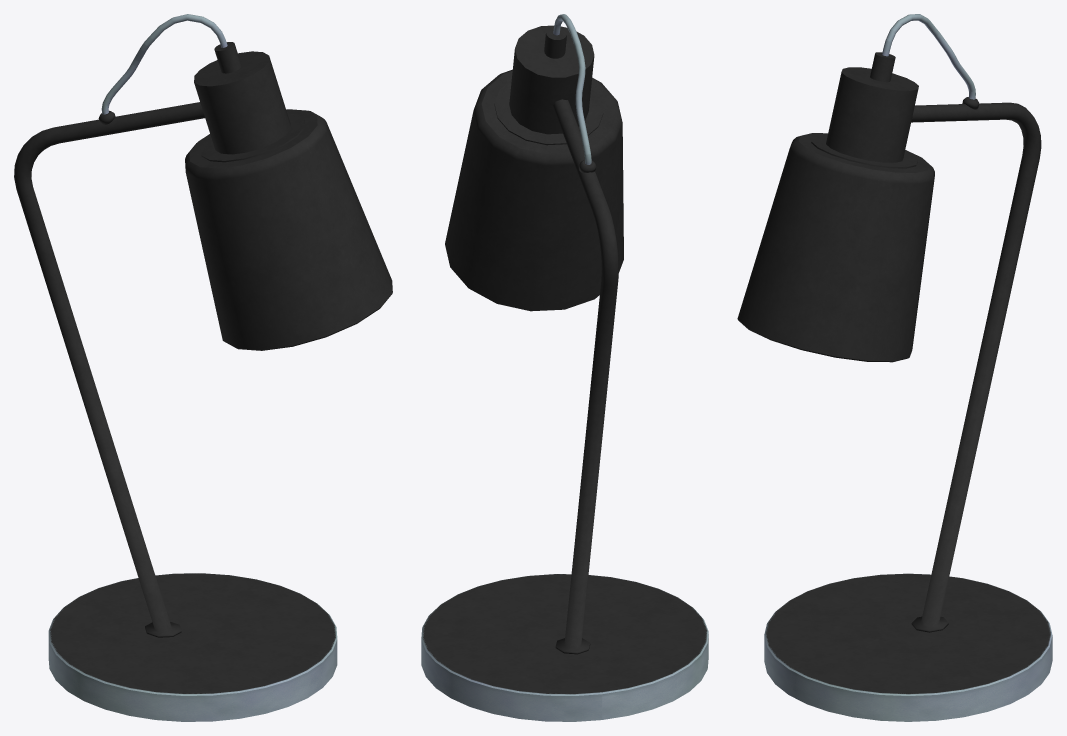
File: Lamp.fbx
3 views of the same model, side by side, from view 1: azimuth 30°, elevation 25°; view 2: azimuth 150°, elevation 25°; view 3: azimuth 270°, elevation 25° (orthographic).
Visible parts, largest first — view 1: lamp; view 2: lamp; view 3: lamp.
Part boxes in pixels (bbox=[...]): lamp: bbox=[14, 14, 392, 721]; lamp: bbox=[421, 14, 708, 721]; lamp: bbox=[737, 14, 1052, 721].
Bounding box in the file's own units: 20.19 × 45.49 × 20.16.
